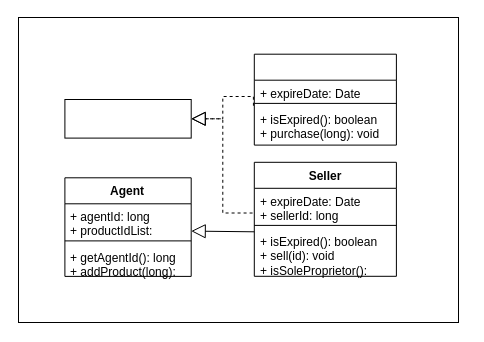
Image size: 484x342. Some labels were removed from this diagram. The box of each missing label's shape, as (x1, y1, x2, y2) in pixels:
Customer: (253, 53, 396, 145)
«interface» Person: (64, 98, 191, 138)
